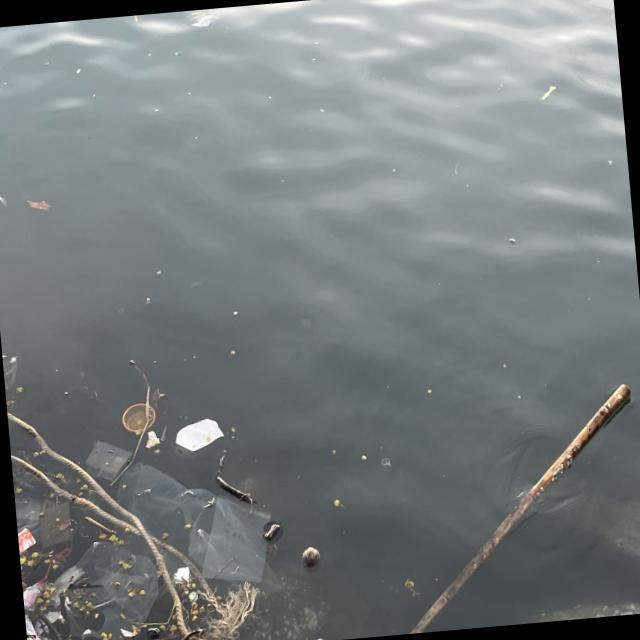foam: (173, 418, 225, 454), (173, 567, 190, 585), (313, 637, 328, 640)
